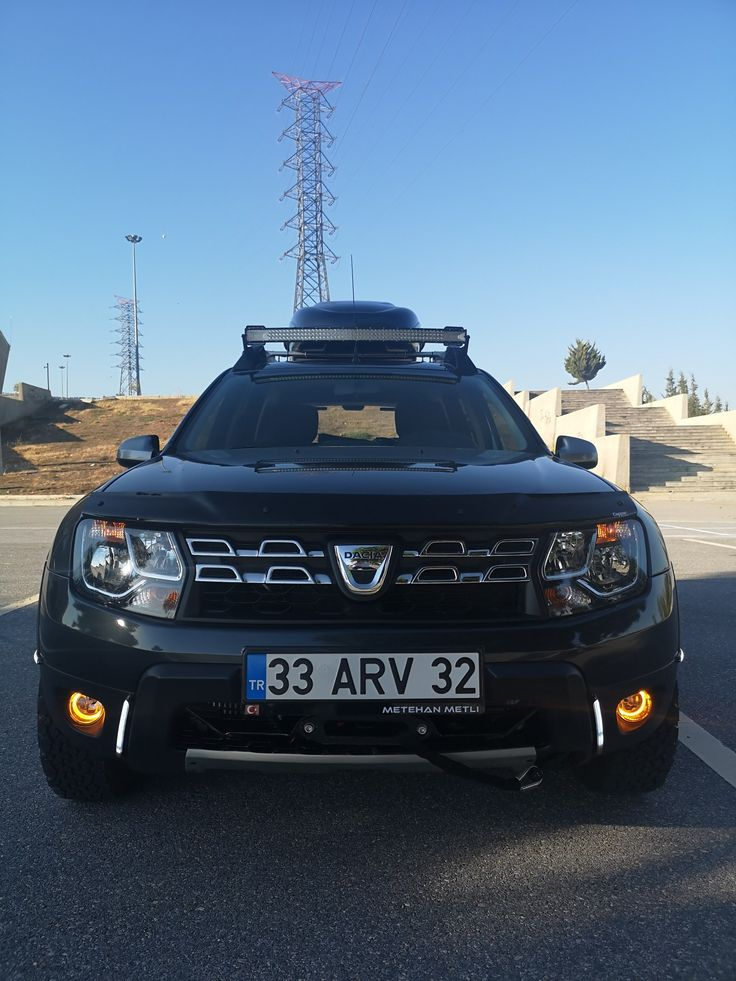plate: (252, 659, 481, 703)
